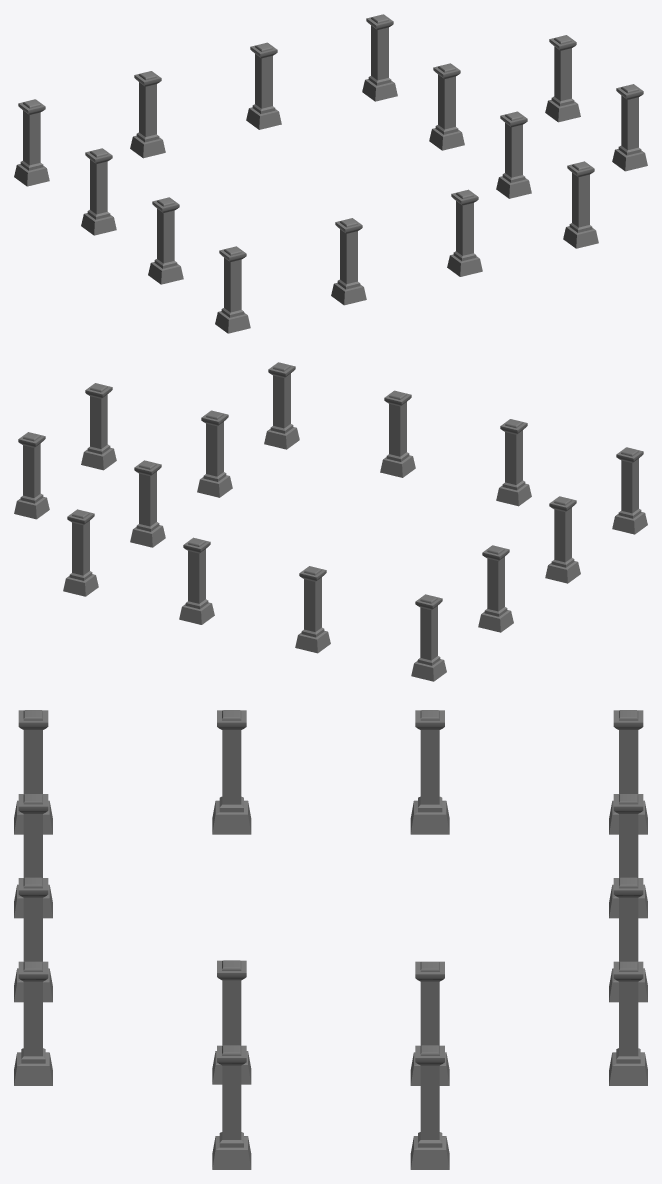
File: pillars.fbx
3 views of the same model, one above another, from view 1: azimuth 30°, elevation 25°; view 2: azimuth 150°, elevation 25°; view 3: azimuth 270°, elevation 25° (orthographic). The views are drawn at different scales.
Parts seen in each view (by area): view 1: pillars; view 2: pillars; view 3: pillars.
Boxes of the visible parts, bbox=[...] form: pillars: bbox=[14, 14, 647, 333]; pillars: bbox=[14, 362, 647, 681]; pillars: bbox=[14, 710, 647, 1169].
Bounding box in the file's own units: 20.98 × 3.17 × 15.98.
